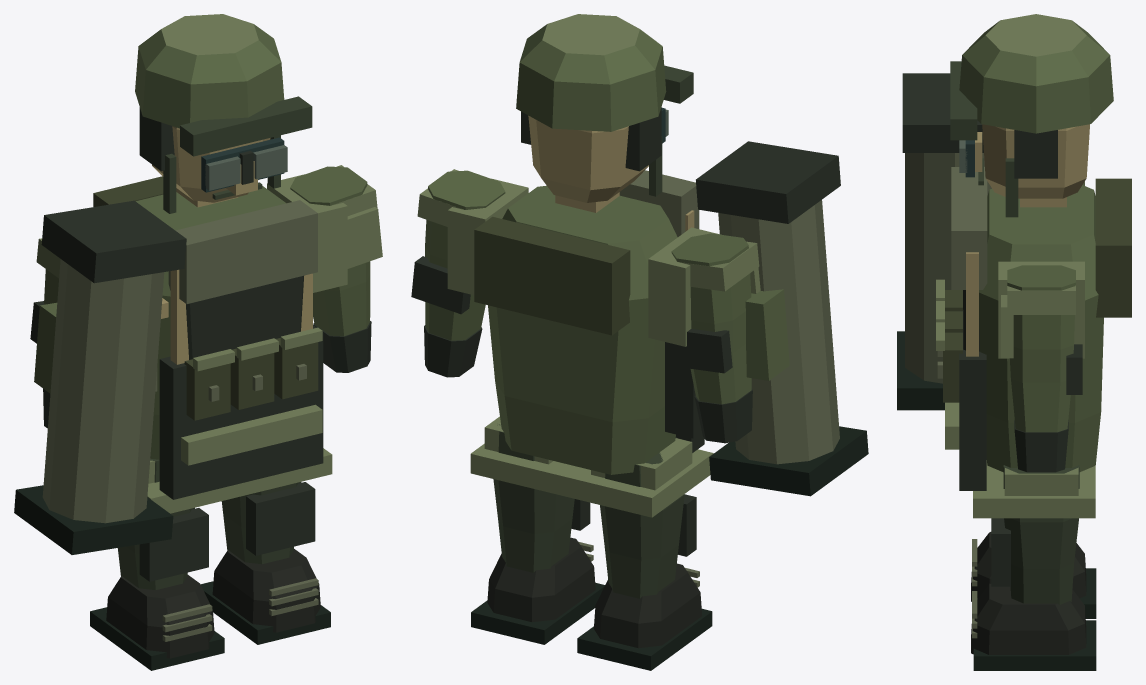
The model's file is bazooka.obj.
3 renders of one model, left to right at view 1: azimuth 30°, elevation 25°; view 2: azimuth 150°, elevation 25°; view 3: azimuth 270°, elevation 25°, orthographic.
Parts seen in each view (by area): view 1: BAZOOKA_BODY, BAZOOKA_WEAPON, BAZOOKA_HEAD, BAZOOKA_LEG_R, BAZOOKA_LEG_L, BAZOOKA_ARM_R, BAZOOKA_ARM_L; view 2: BAZOOKA_BODY, BAZOOKA_WEAPON, BAZOOKA_HEAD, BAZOOKA_LEG_L, BAZOOKA_LEG_R, BAZOOKA_ARM_L, BAZOOKA_ARM_R; view 3: BAZOOKA_BODY, BAZOOKA_HEAD, BAZOOKA_LEG_R, BAZOOKA_WEAPON, BAZOOKA_ARM_R, BAZOOKA_LEG_L.
Part boxes in pixels (x1,y1,x2,y2): BAZOOKA_BODY: (93, 174, 347, 513); BAZOOKA_WEAPON: (14, 200, 186, 554); BAZOOKA_HEAD: (135, 14, 312, 213); BAZOOKA_LEG_R: (200, 482, 330, 644); BAZOOKA_LEG_L: (90, 458, 224, 670); BAZOOKA_ARM_R: (290, 165, 382, 372); BAZOOKA_ARM_L: (30, 238, 60, 428); BAZOOKA_BODY: (447, 170, 721, 517); BAZOOKA_WEAPON: (696, 141, 868, 496); BAZOOKA_HEAD: (516, 14, 693, 212); BAZOOKA_LEG_L: (577, 437, 712, 670); BAZOOKA_LEG_R: (471, 416, 604, 644); BAZOOKA_ARM_L: (671, 233, 760, 443); BAZOOKA_ARM_R: (411, 169, 505, 377); BAZOOKA_BODY: (936, 167, 1131, 518); BAZOOKA_HEAD: (950, 14, 1113, 217); BAZOOKA_LEG_R: (971, 465, 1096, 670); BAZOOKA_WEAPON: (897, 73, 991, 410); BAZOOKA_ARM_R: (1001, 265, 1082, 472); BAZOOKA_LEG_L: (971, 532, 1096, 618).
Size of the model in its own units: 1.16 by 1.81 by 0.65.
1 material, 1 textured.
